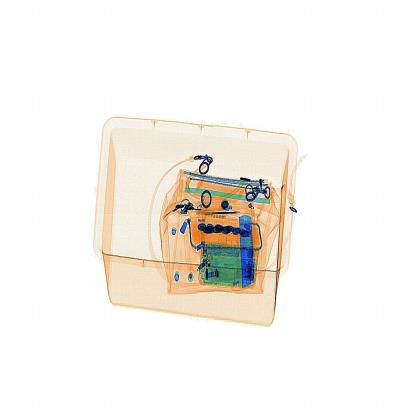pliers: (236, 211, 258, 290)
